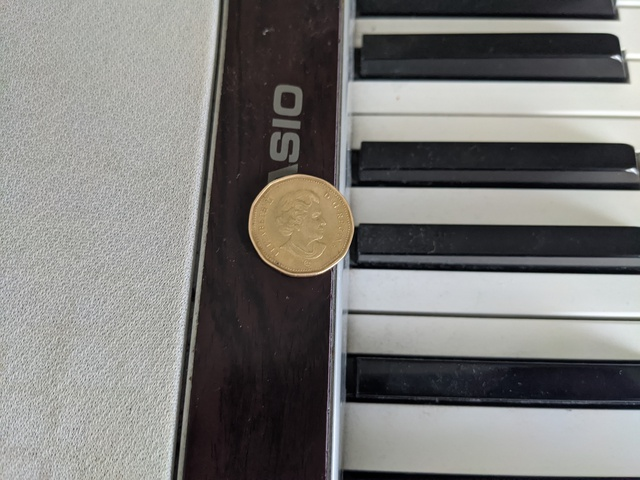loonie: (242, 171, 374, 276)
